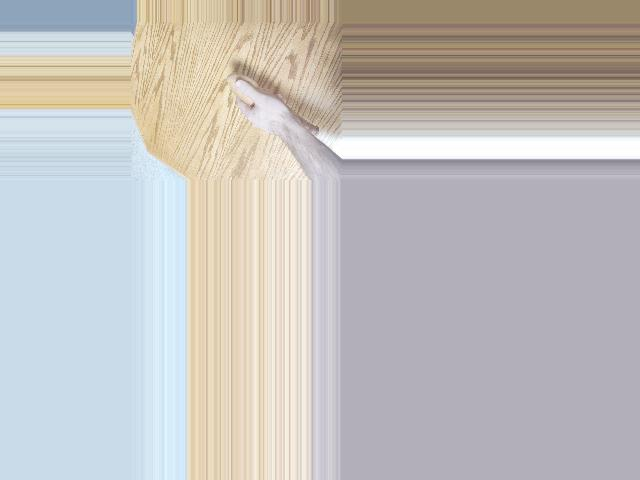sweet_potato: (225, 74, 322, 139)
